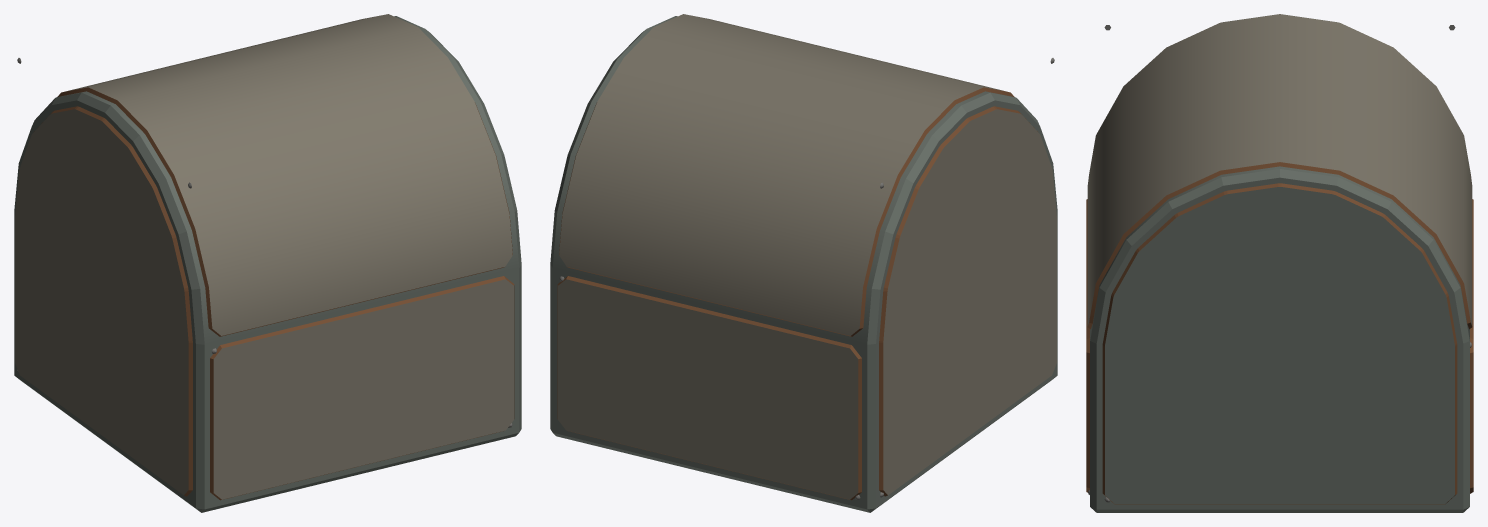
Rendered from R4B_RoundTop.fbx.
The picture shows the model from 3 angles, left to right: view 1: azimuth 30°, elevation 25°; view 2: azimuth 150°, elevation 25°; view 3: azimuth 270°, elevation 25°; orthographic projection.
Parts seen in each view (by area): view 1: R4B_RoundTop; view 2: R4B_RoundTop; view 3: R4B_RoundTop.
Boxes of the visible parts, left/top/right/bottom form: R4B_RoundTop: left=14, top=14, right=521, bottom=512; R4B_RoundTop: left=550, top=14, right=1057, bottom=512; R4B_RoundTop: left=1086, top=14, right=1473, bottom=512.
Size of the model in its own units: 0.52 by 0.52 by 0.52.
